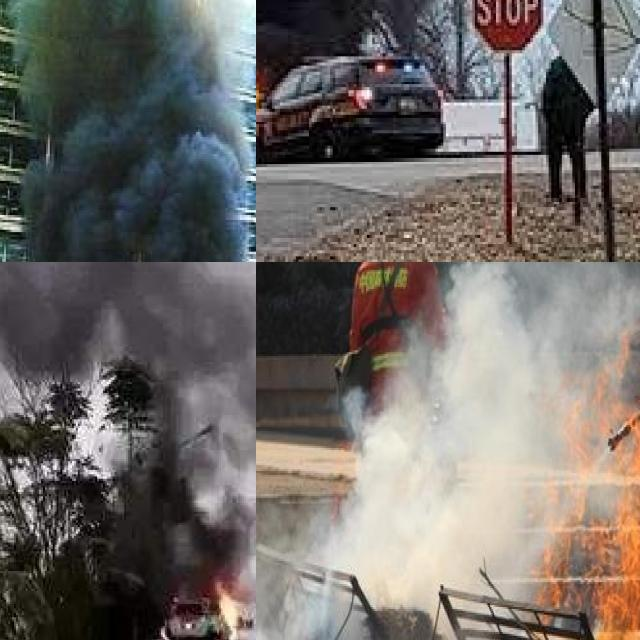fire: (544, 329, 640, 640), (159, 575, 244, 640)
smoke: (256, 262, 640, 640), (0, 262, 256, 597), (7, 0, 256, 262), (256, 0, 559, 84)
